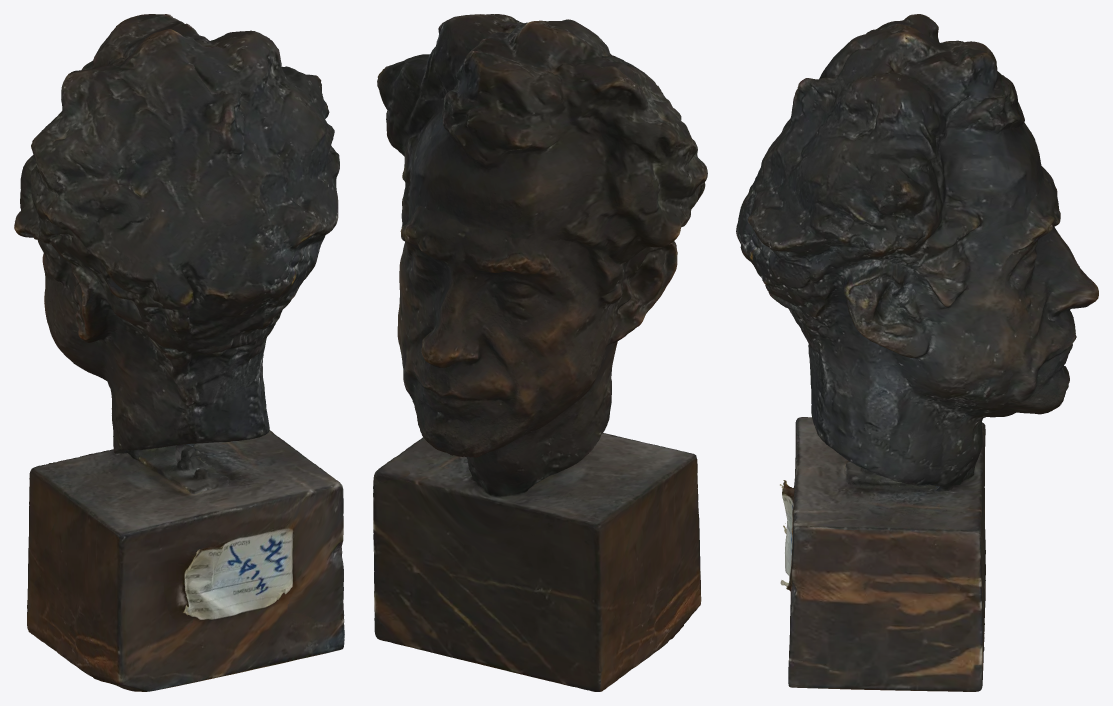
Rendered from preview.glb.
3 renders of one model, left to right at view 1: azimuth 30°, elevation 25°; view 2: azimuth 150°, elevation 25°; view 3: azimuth 270°, elevation 25°, orthographic. The views are drawn at different scales.
Visible parts, largest first — view 1: Object_2; view 2: Object_2; view 3: Object_2.
Part boxes in pixels (x1,y1,x2,y2): Object_2: (14,14,344,691); Object_2: (373,14,707,691); Object_2: (736,14,1098,691).
Bounding box in the file's own units: 5.26 × 10.22 × 5.56.
1 material, 1 textured.
